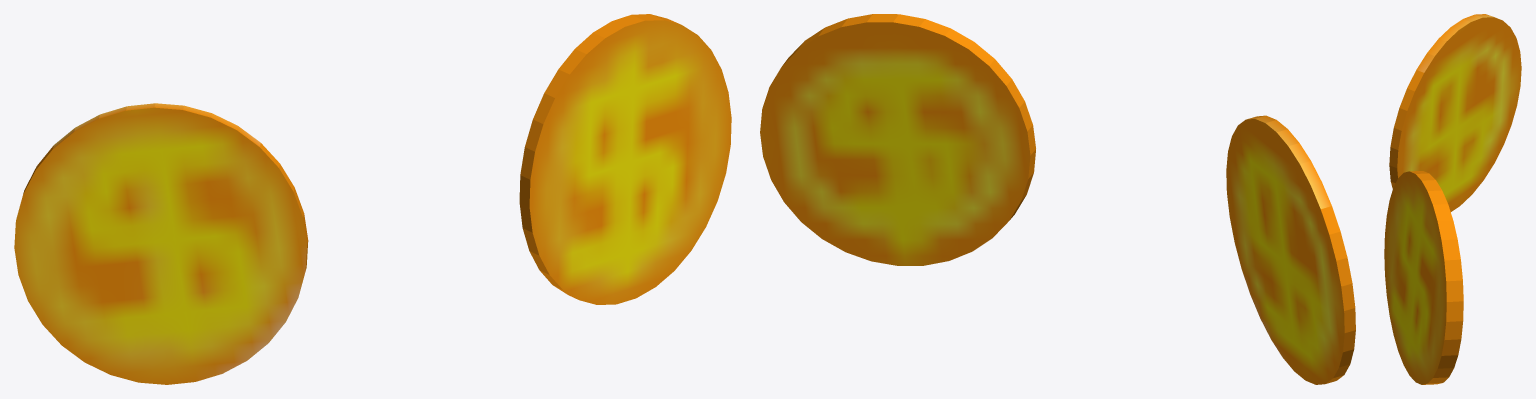
3 views of the same model, side by side, from view 1: azimuth 30°, elevation 25°; view 2: azimuth 150°, elevation 25°; view 3: azimuth 270°, elevation 25° (orthographic). The views are drawn at different scales.
Visible parts, largest first — view 1: 硬笔; view 2: 硬笔; view 3: 硬笔.
Part boxes in pixels (x1,y1,x2,y2): 硬笔: (14, 14, 731, 384); 硬笔: (760, 14, 1355, 384); 硬笔: (1384, 14, 1521, 384).
Size of the model in its own units: 0.3733 by 0.1451 by 0.0907.
